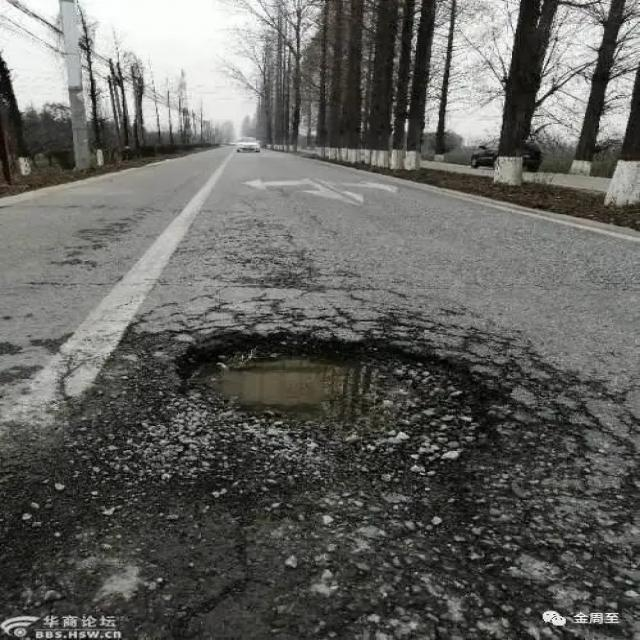Pothole: (100, 327, 511, 550)
